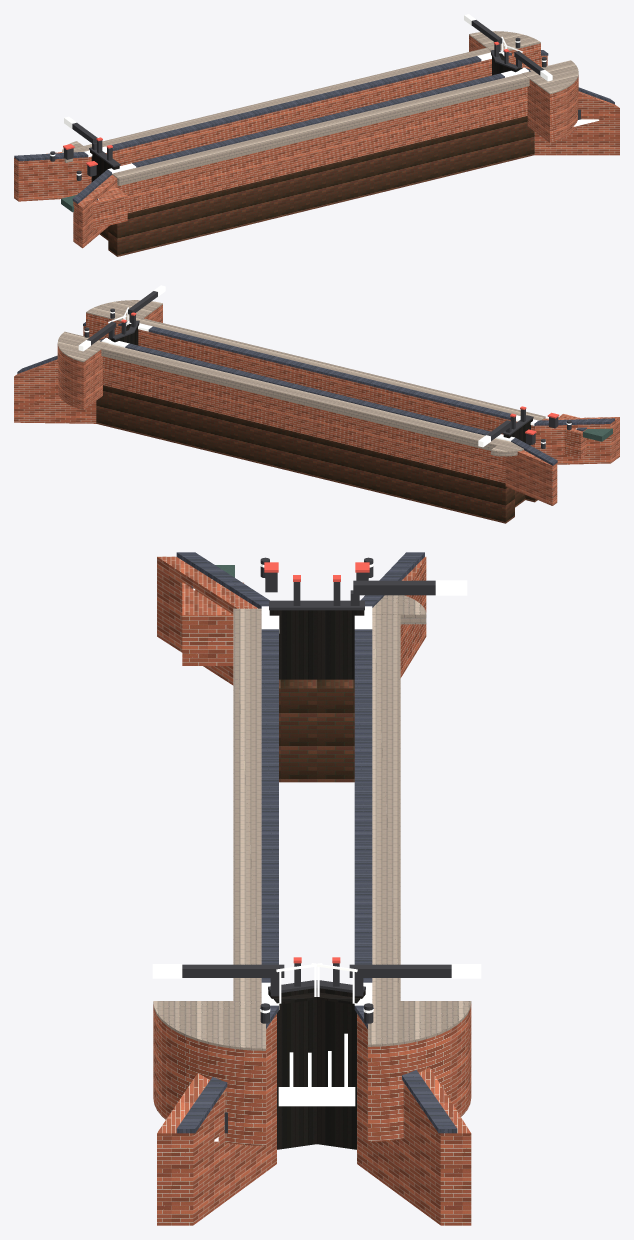
The model's file is lock-49.glb.
3 views of the same model, one above another, from view 1: azimuth 30°, elevation 25°; view 2: azimuth 150°, elevation 25°; view 3: azimuth 270°, elevation 25° (orthographic). The views are drawn at different scales.
Visible parts, largest first — view 1: Chamber, ChamberWet, Edge, Coping.001, TopGateCap, Coping, TopGate; view 2: Chamber, ChamberWet, Edge, Coping.001, TopGateCap, Coping, TopGate; view 3: Chamber, Edge, Coping.001, TopGate, ChamberWet, TopGateCap, Coping, Leak.
Boxes of the visible parts, bbox=[...] form: Chamber: bbox=[14, 35, 619, 248]; ChamberWet: bbox=[99, 116, 534, 256]; Edge: bbox=[62, 31, 578, 185]; Coping.001: bbox=[14, 50, 614, 203]; TopGateCap: bbox=[50, 20, 580, 180]; Coping: bbox=[50, 14, 552, 175]; TopGate: bbox=[90, 53, 522, 182]; Chamber: bbox=[14, 305, 619, 505]; ChamberWet: bbox=[96, 385, 537, 523]; Edge: bbox=[57, 300, 545, 456]; Coping.001: bbox=[17, 321, 614, 465]; TopGateCap: bbox=[84, 291, 571, 448]; Coping: bbox=[78, 285, 571, 447]; TopGate: bbox=[108, 323, 532, 445]; Chamber: bbox=[153, 556, 471, 1225]; Edge: bbox=[153, 595, 471, 1050]; Coping.001: bbox=[176, 552, 457, 1133]; TopGate: bbox=[268, 610, 365, 1149]; ChamberWet: bbox=[279, 679, 354, 782]; TopGateCap: bbox=[182, 557, 451, 1133]; Coping: bbox=[152, 563, 481, 1013]; Leak: bbox=[193, 588, 355, 1141].
Bounding box in the file's own units: 33.59 × 5.88 × 9.04.
Materials: 11 (8 with a texture image).
